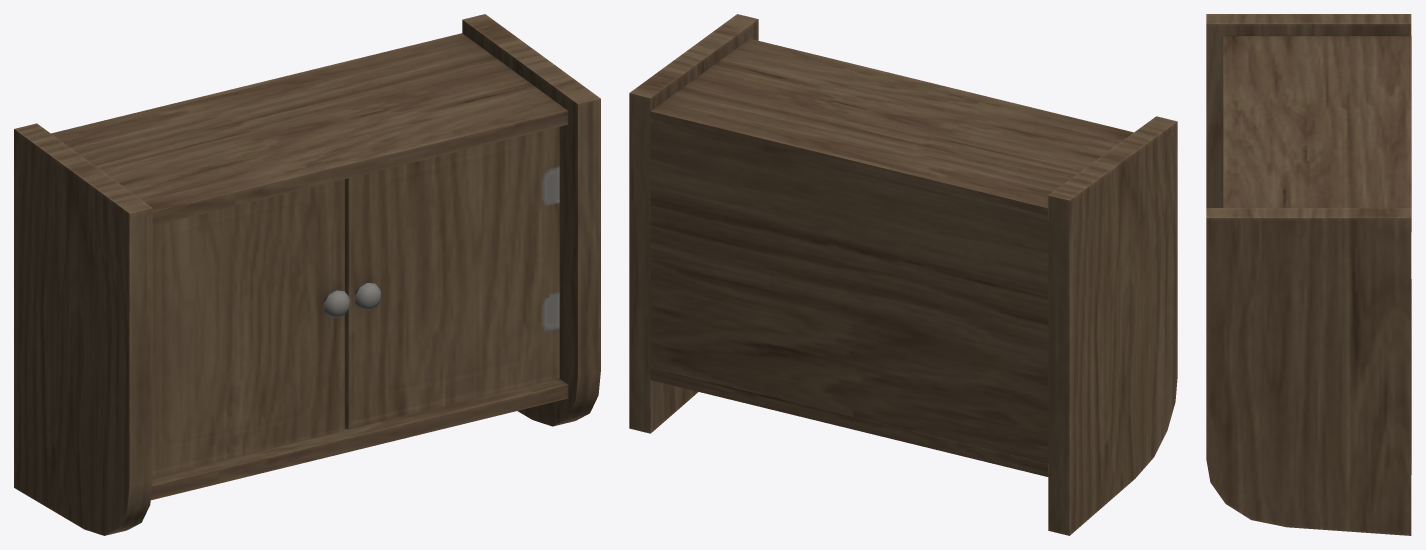
File: sb_obj_indoor021_WallShalf01b.fbx
The picture shows the model from 3 angles, left to right: view 1: azimuth 30°, elevation 25°; view 2: azimuth 150°, elevation 25°; view 3: azimuth 270°, elevation 25°; orthographic projection. The views are drawn at different scales.
Parts seen in each view (by area): view 1: sb_obj_indoor021_WallShalf01b; view 2: sb_obj_indoor021_WallShalf01b; view 3: sb_obj_indoor021_WallShalf01b.
Boxes of the visible parts, x1,y1,x2,y2 form: sb_obj_indoor021_WallShalf01b: (14,14,600,535); sb_obj_indoor021_WallShalf01b: (629,14,1177,535); sb_obj_indoor021_WallShalf01b: (1206,14,1411,535).
Size of the model in its own units: 0.72 by 0.524 by 0.3066.
